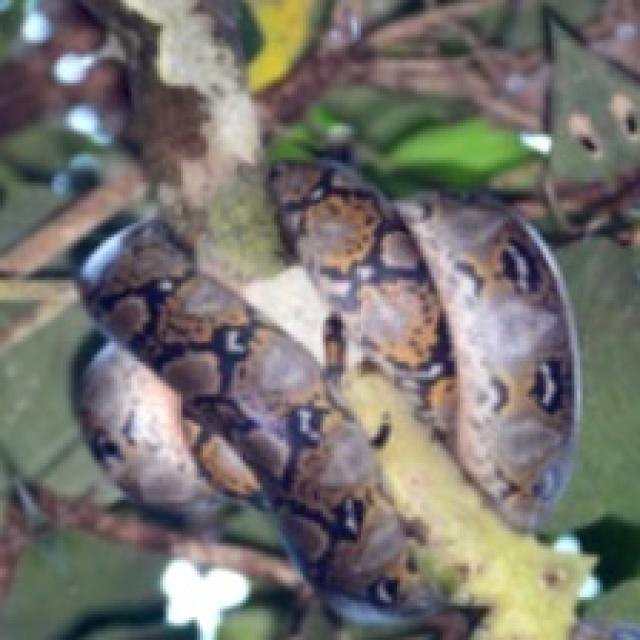reticulated python: (77, 217, 466, 637), (271, 160, 577, 529)
